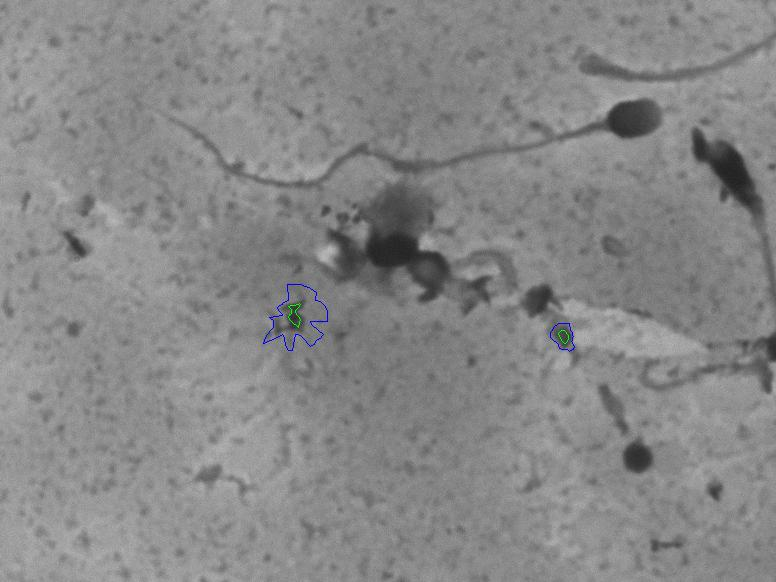Abnormal: (684, 115, 769, 280)
Normal: (144, 83, 673, 199)
